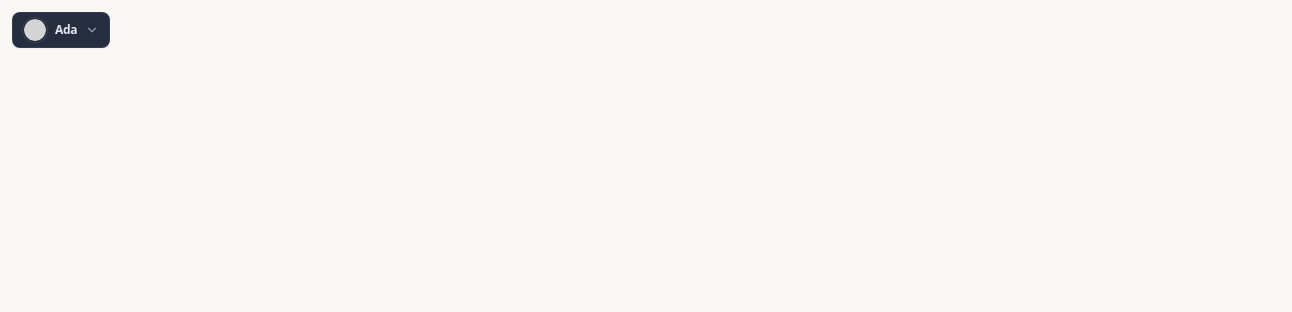
UserMenu (Task 1.10) › renders real name and https photo from resolveUserIdentity in trigger and menu
The image size is (1292, 312).
Click the button with aria-label "Profile Menu" at (61, 30), box x1=12 y1=12 x2=110 y2=48
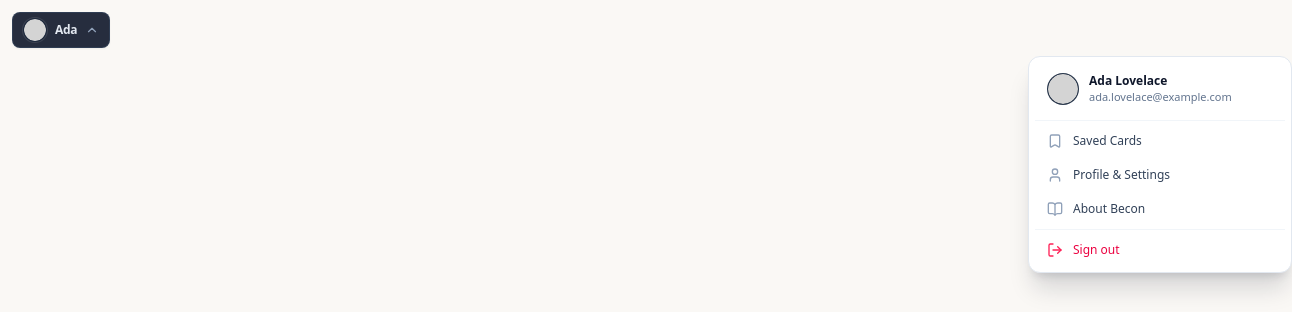
Expected: the text "Ada Lovelace" is shown, x1=1089 y1=73 x2=1167 y2=89
Expected: the text "ada.lovelace@example.com" is shown, x1=1089 y1=89 x2=1232 y2=104
